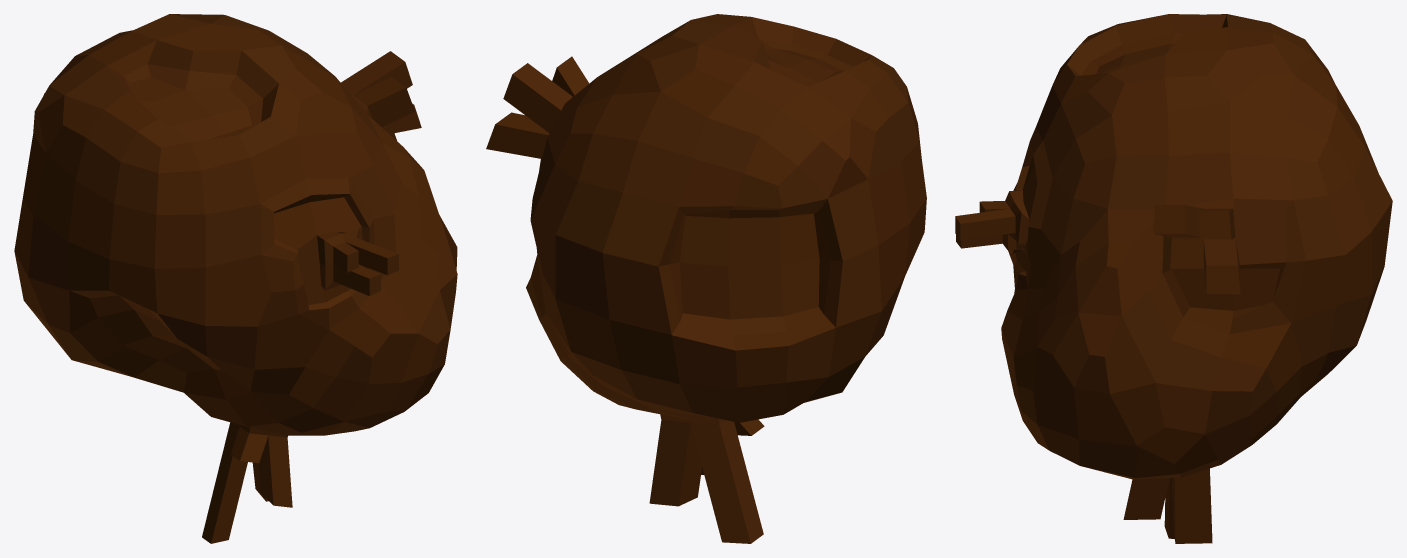
File: Asteroid3.fbx
3 renders of one model, left to right at view 1: azimuth 30°, elevation 25°; view 2: azimuth 150°, elevation 25°; view 3: azimuth 270°, elevation 25°, orthographic. The views are drawn at different scales.
Parts seen in each view (by area): view 1: Cube; view 2: Cube; view 3: Cube.
Boxes of the visible parts, left/top/right/bottom form: Cube: left=14, top=14, right=457, bottom=543; Cube: left=486, top=14, right=926, bottom=543; Cube: left=955, top=14, right=1392, bottom=543.
Bounding box in the file's own units: 278 × 344 × 276.
